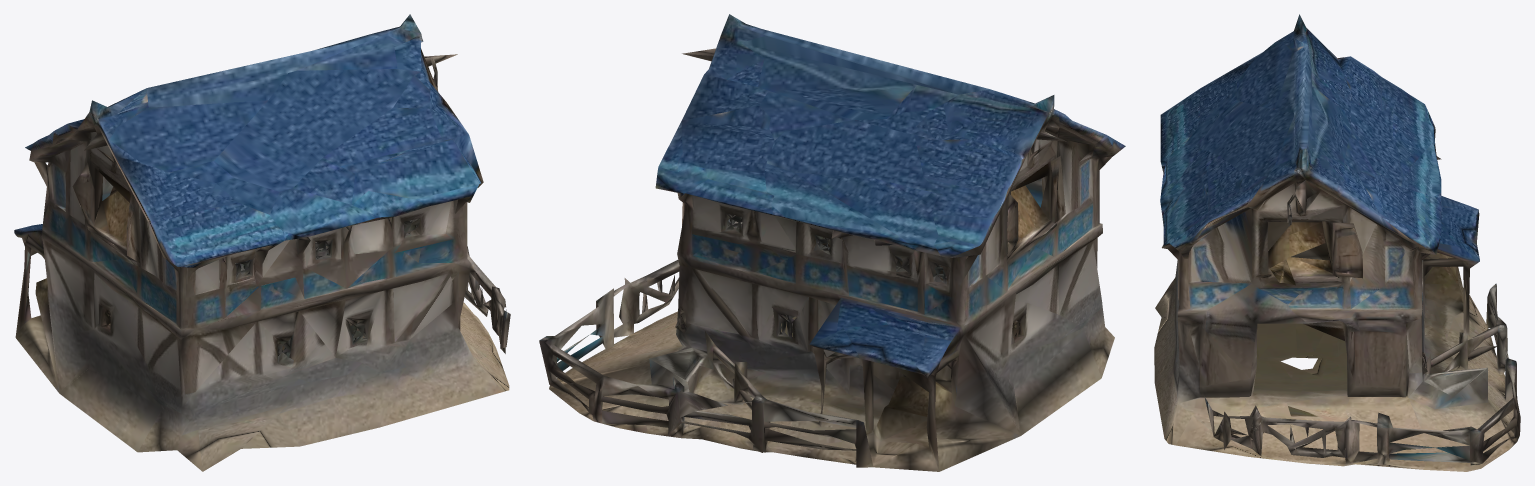
The model's file is barn_1.glb.
3 renders of one model, left to right at view 1: azimuth 30°, elevation 25°; view 2: azimuth 150°, elevation 25°; view 3: azimuth 270°, elevation 25°, orthographic. The views are drawn at different scales.
Parts seen in each view (by area): view 1: tripo_node_0d368b60-aa32-46e5-8863-0528361dc7d8; view 2: tripo_node_0d368b60-aa32-46e5-8863-0528361dc7d8; view 3: tripo_node_0d368b60-aa32-46e5-8863-0528361dc7d8.
Boxes of the visible parts, x1,y1,x2,y2 form: tripo_node_0d368b60-aa32-46e5-8863-0528361dc7d8: (14, 14, 510, 471); tripo_node_0d368b60-aa32-46e5-8863-0528361dc7d8: (539, 14, 1125, 471); tripo_node_0d368b60-aa32-46e5-8863-0528361dc7d8: (1154, 14, 1520, 471).
Size of the model in its own units: 0.9792 by 0.7167 by 0.8304.
1 material, 1 textured.
